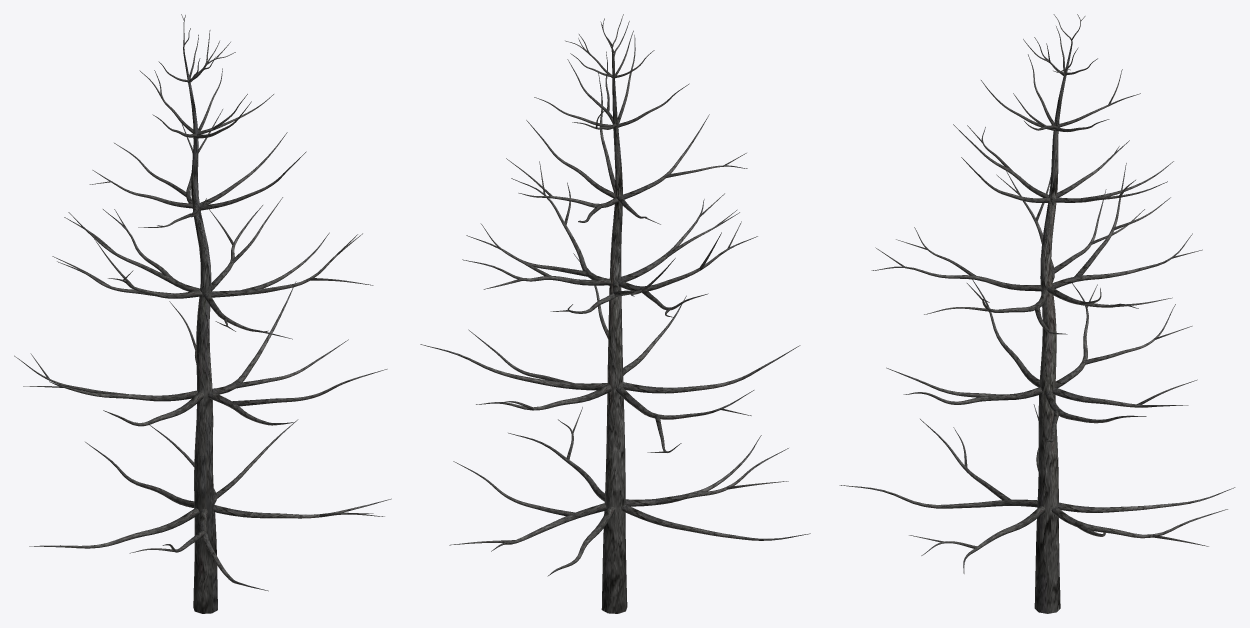
The model's file is pine_tree.glb.
The picture shows the model from 3 angles, left to right: view 1: azimuth 30°, elevation 25°; view 2: azimuth 150°, elevation 25°; view 3: azimuth 270°, elevation 25°; orthographic projection. The views are drawn at different scales.
Visible parts, largest first — view 1: tree; view 2: tree; view 3: tree.
Boxes of the visible parts, x1,y1,x2,y2 form: tree: (14, 14, 391, 613); tree: (420, 14, 810, 613); tree: (839, 14, 1235, 613).
Size of the model in its own units: 2.92 by 4.97 by 3.02.
1 material, 1 textured.
